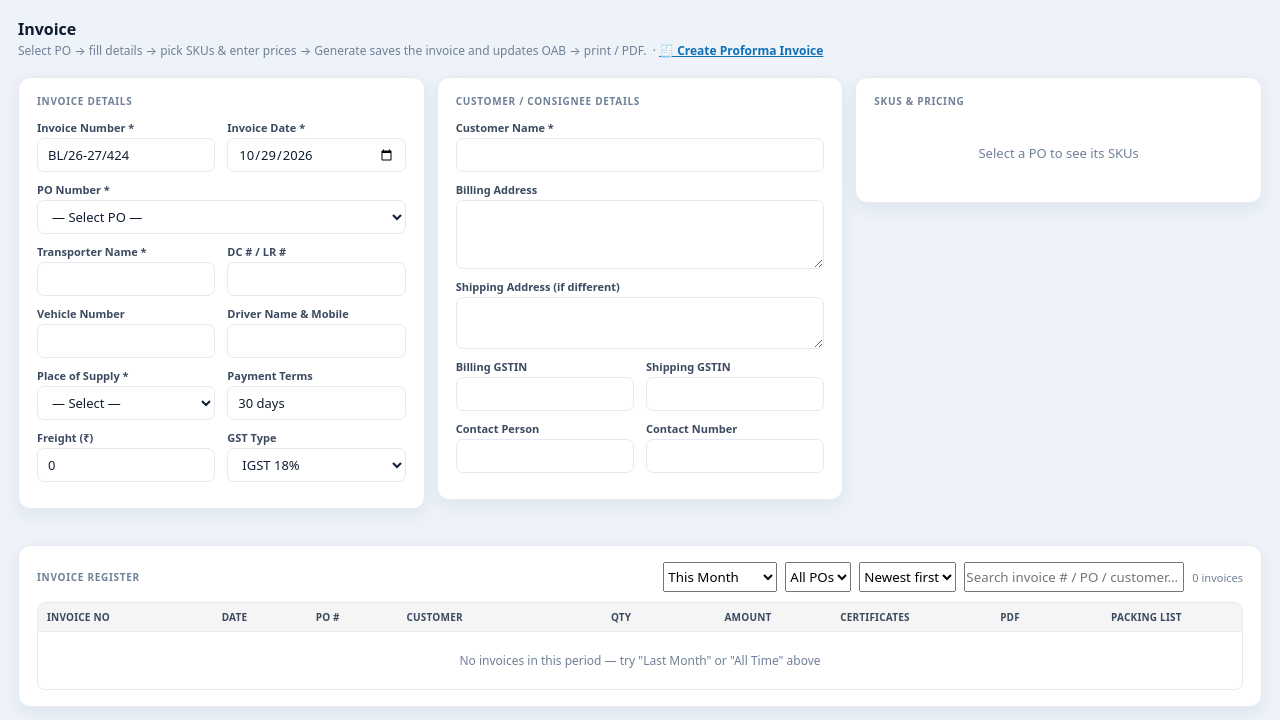
Invoice register — certificates, filters and PL › marks a partly-certified invoice with a dot, not a tick
This screenshot has width=1280, height=720.
Expected: the text "Invoice Register" is shown, [37,570,140,584]
Select "All Time" in the dropdown named "Period": (720, 577) [663,562,777,592]
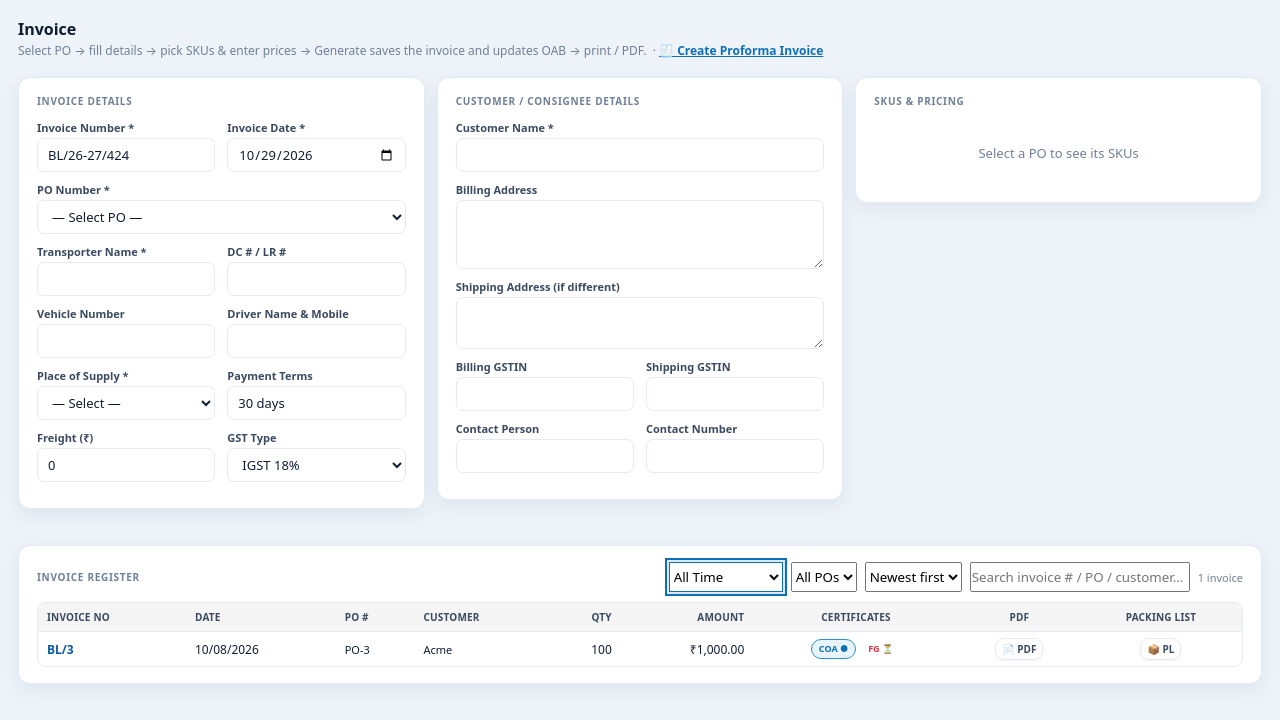
Now the button "COA ●" is shown, box [811,639,856,659]
